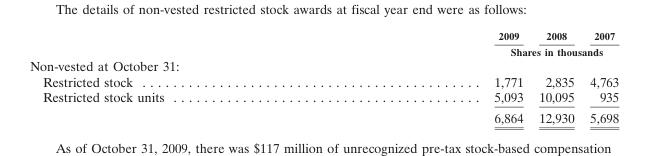table: (29, 29, 618, 125)
table column: (29, 29, 328, 125), (328, 29, 530, 125), (530, 29, 581, 125), (581, 29, 618, 125)
table column header: (29, 29, 618, 57)
table projected row header: (29, 57, 618, 73)
table row: (29, 106, 618, 125), (29, 88, 618, 106), (29, 57, 618, 73), (29, 73, 618, 88), (29, 29, 618, 43), (29, 43, 618, 57)
table spanning cell: (328, 43, 618, 57)
